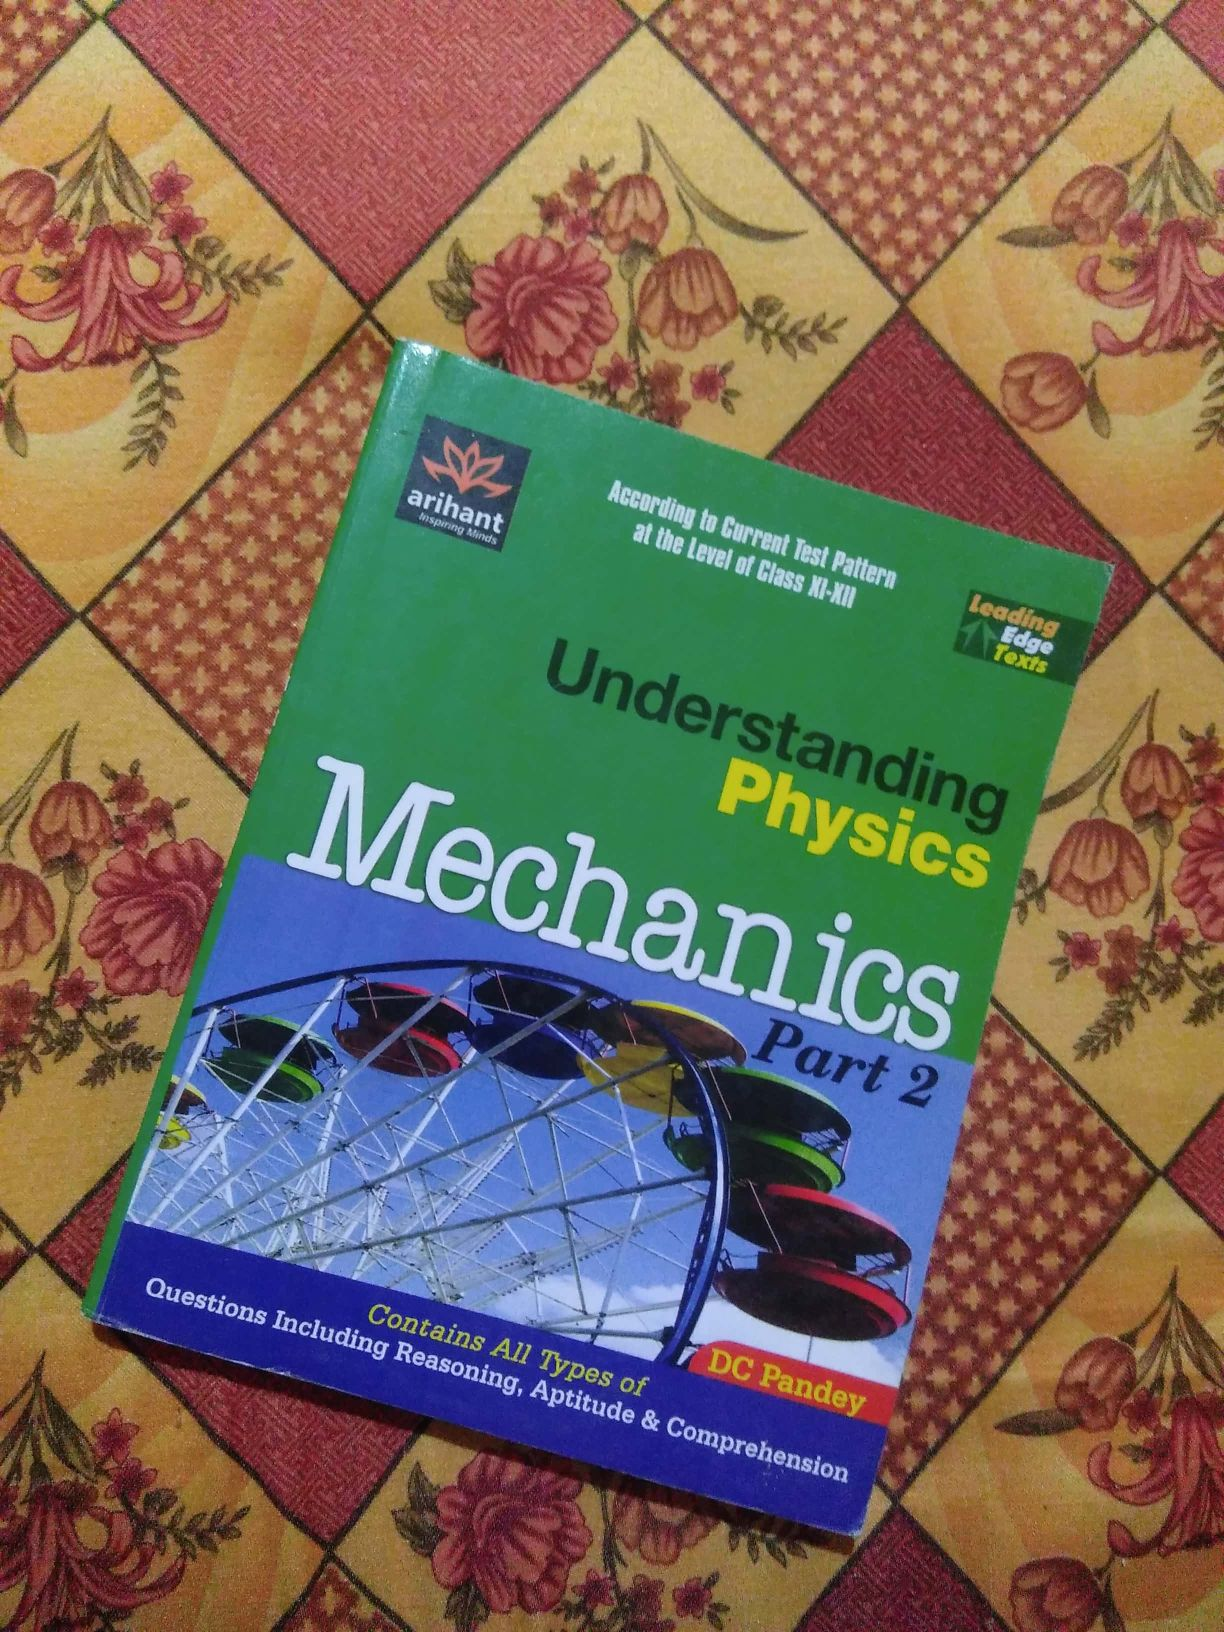mechanics: (150, 359, 1124, 1512)
